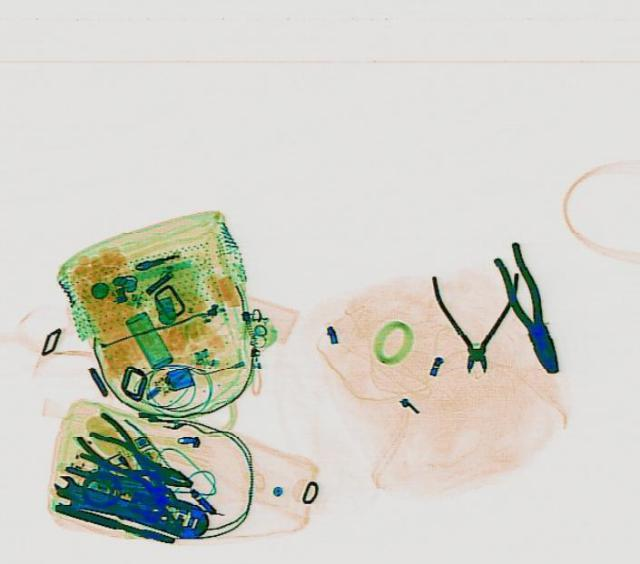Pliers: (47, 453, 217, 545), (486, 239, 570, 377), (76, 427, 200, 497), (430, 272, 518, 370)
Wrench: (48, 471, 142, 518)
